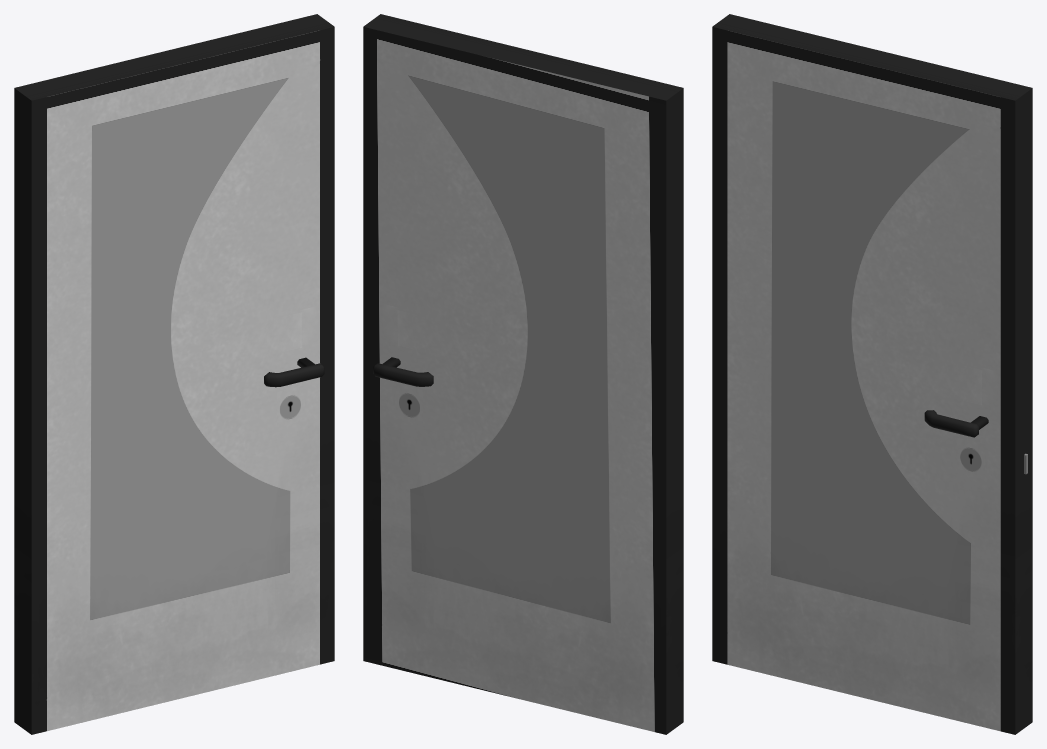
Rendered from door.FBX.
3 views of the same model, side by side, from view 1: azimuth 30°, elevation 25°; view 2: azimuth 150°, elevation 25°; view 3: azimuth 330°, elevation 25° (orthographic).
Parts seen in each view (by area): view 1: door, handle; view 2: door, handle001; view 3: door, handle.
Part boxes in pixels (left/top/right/bottom): door: left=14, top=14, right=334, bottom=734; handle: left=264, top=357, right=324, bottom=387; door: left=363, top=14, right=683, bottom=734; handle001: left=373, top=357, right=433, bottom=386; door: left=712, top=14, right=1032, bottom=734; handle: left=924, top=410, right=988, bottom=437.
Size of the model in its own units: 267 by 529 by 73.51.
